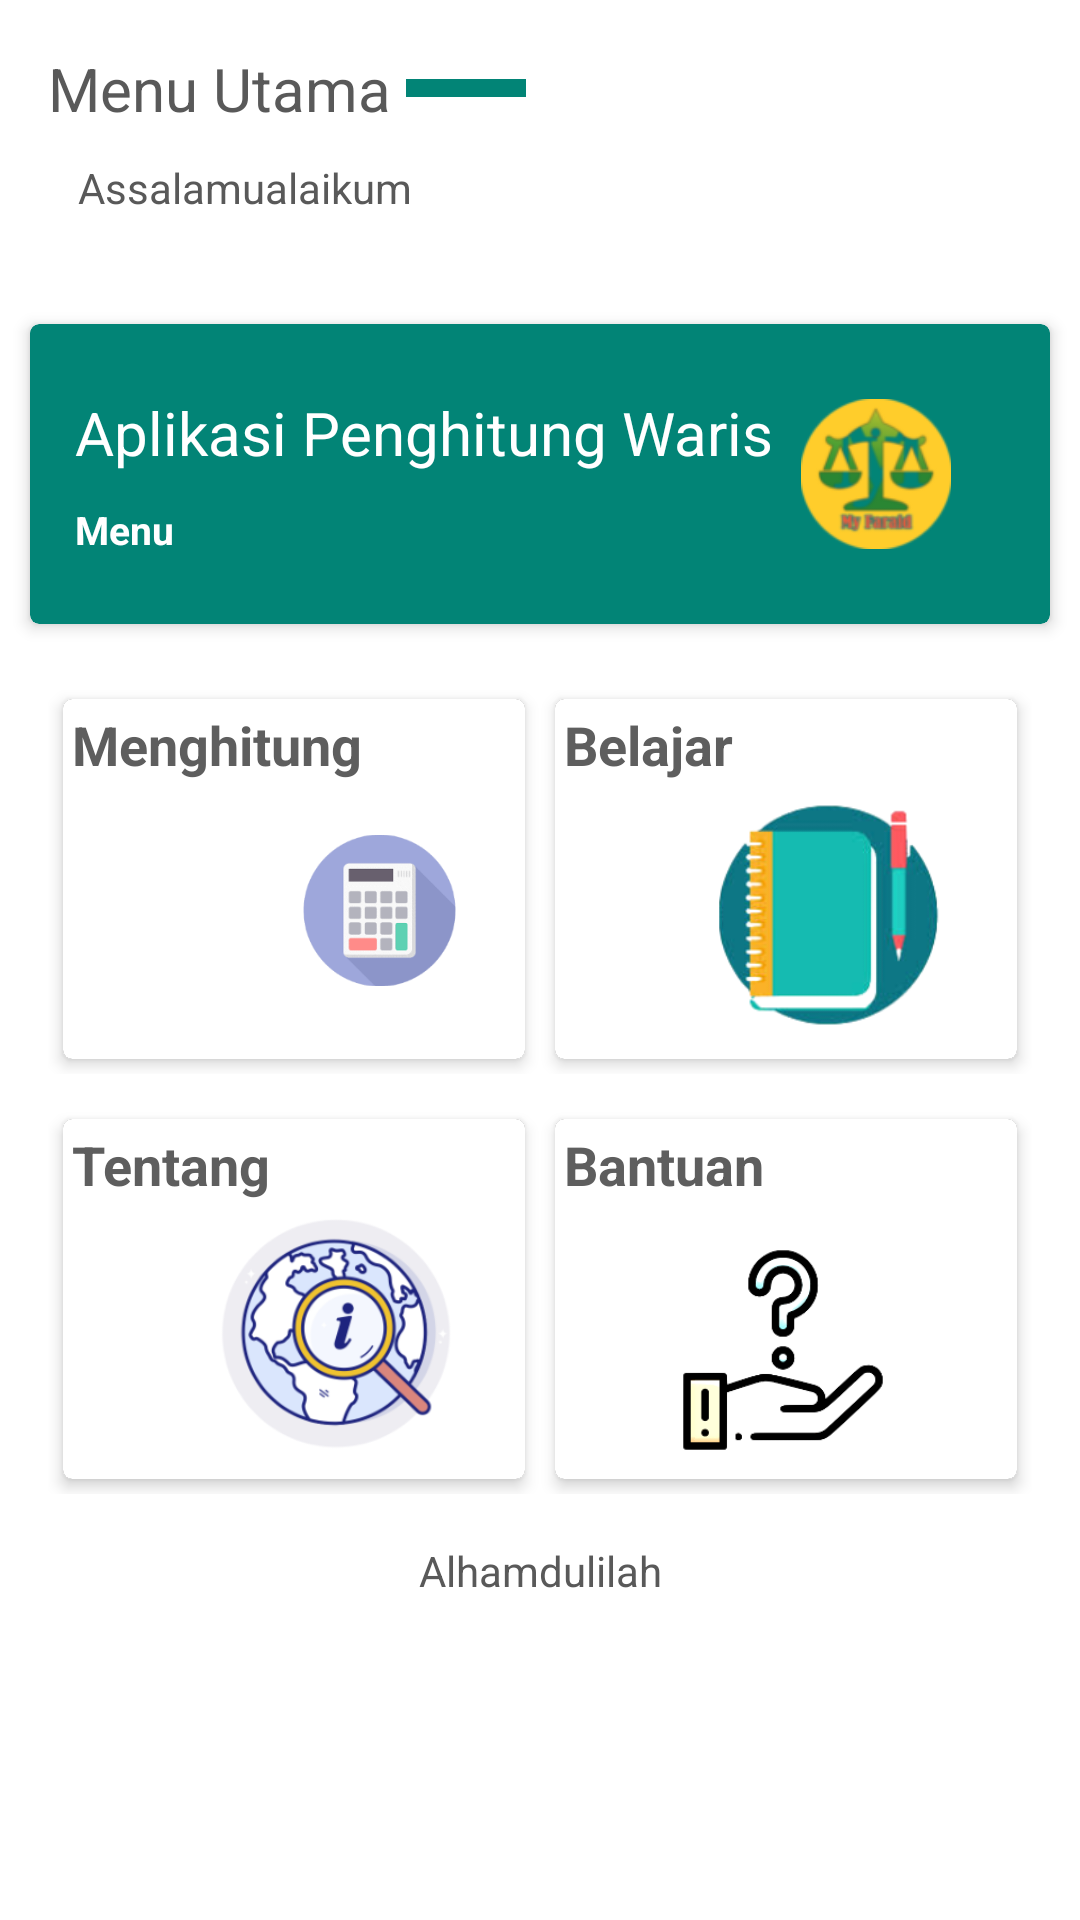

Icon bounding boxes for this 1080w x 1920h phone screenshot, format (left=x1, top=y1, right=x2, bottom=y2):
buku: (left=719, top=805, right=939, bottom=1025)
kalkulator: (left=303, top=835, right=456, bottom=986)
